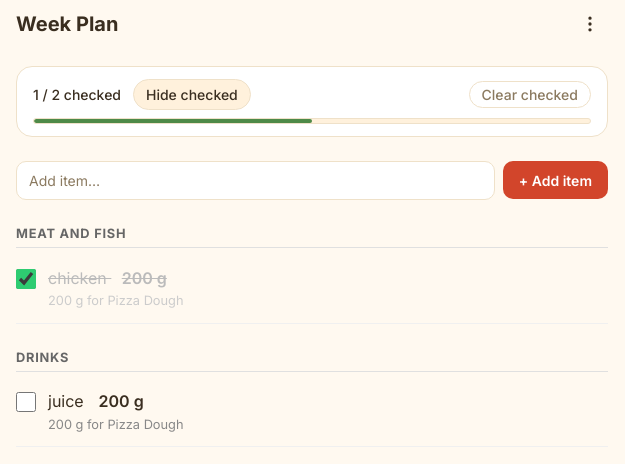
Scenario: ShoppingListView › does not render an empty category section when all its items are hidden
Click the button with test id "hide-checked-toggle" at [192, 94], box [133, 79, 251, 110]
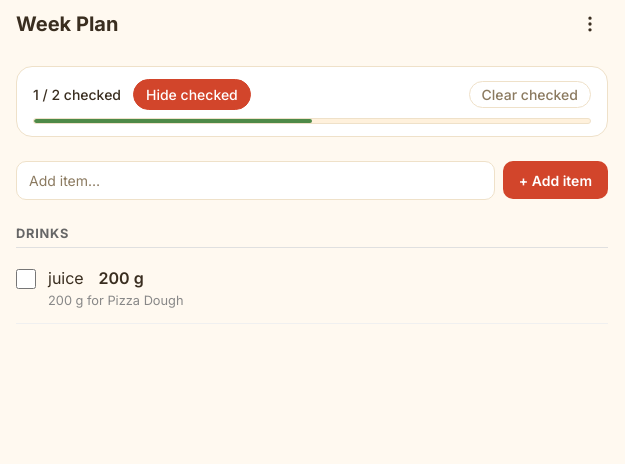
Expected: the elements with class "category-title" read "Drinks", in this order, [16, 224, 608, 248]
